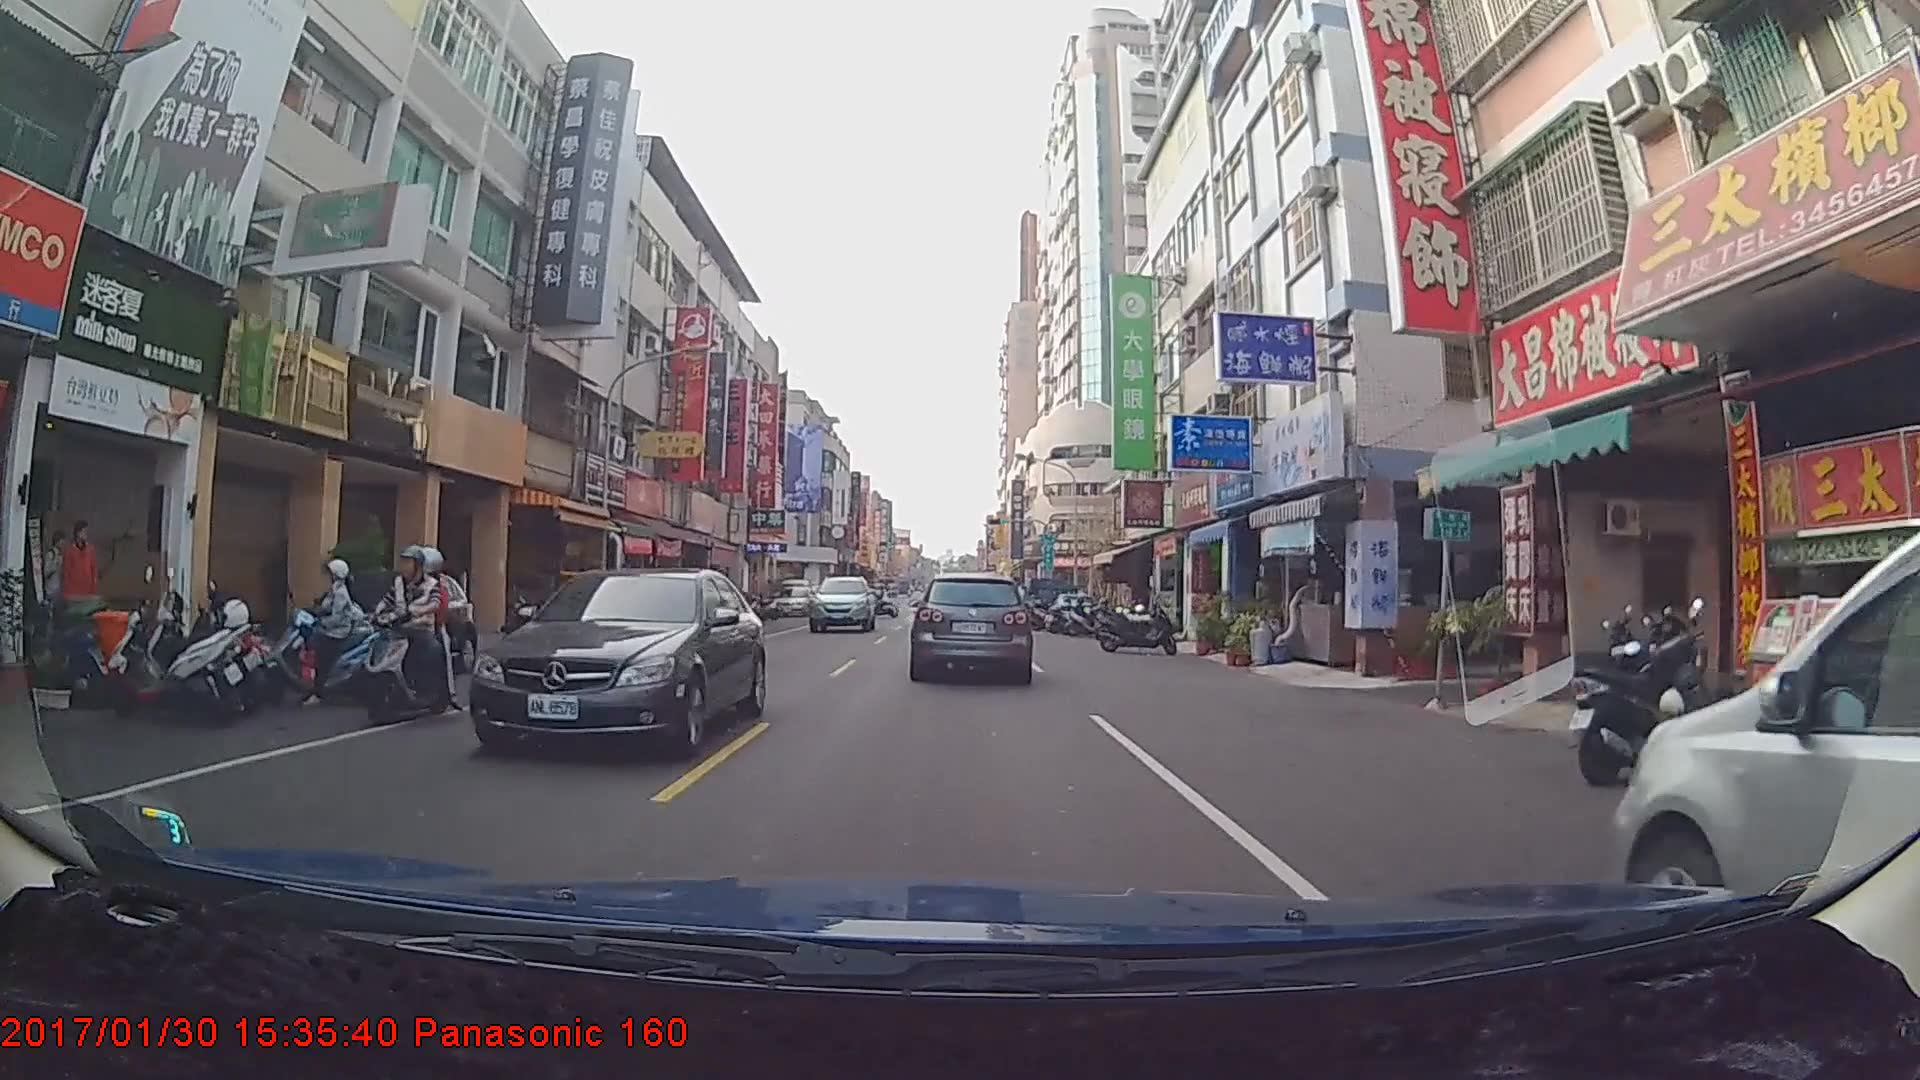pedestrian: (60, 512, 107, 646), (37, 518, 75, 635)
rider: (343, 543, 468, 731)
vehicle: (1608, 482, 1917, 1016), (468, 566, 766, 762), (910, 571, 1031, 681), (809, 576, 876, 633), (1024, 574, 1075, 620)
